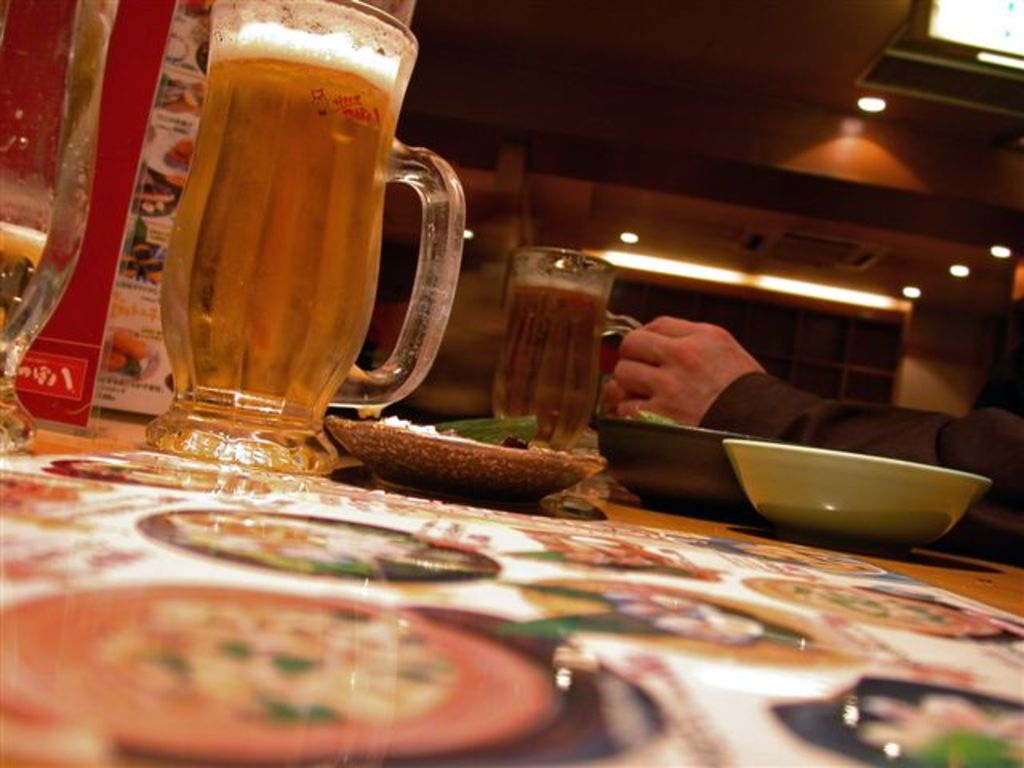Beer: (155, 28, 396, 416), (492, 275, 604, 451)
